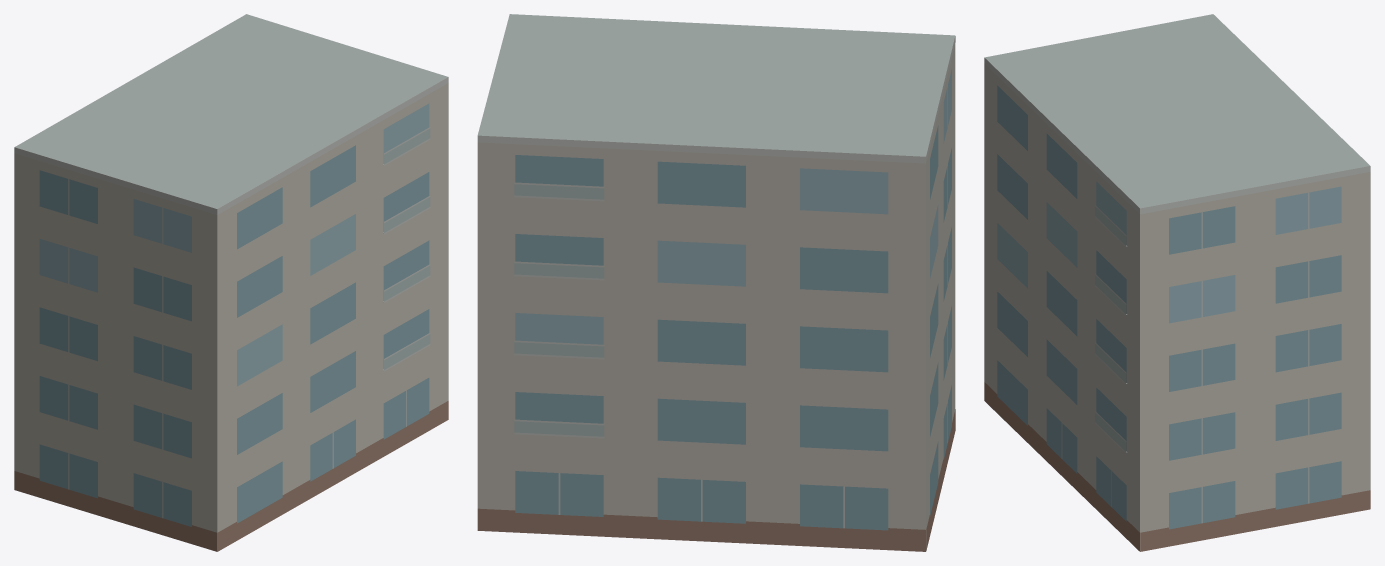
Rendered from survey-upis-32759765.glb.
3 views of the same model, side by side, from view 1: azimuth 30°, elevation 25°; view 2: azimuth 150°, elevation 25°; view 3: azimuth 270°, elevation 25° (orthographic). The views are drawn at different scales.
Visible parts, largest first — view 1: survey-upis-32759765.tmp; view 2: survey-upis-32759765.tmp; view 3: survey-upis-32759765.tmp.
Boxes of the visible parts, x1=… form: survey-upis-32759765.tmp: x1=14, y1=14, x2=448, y2=551; survey-upis-32759765.tmp: x1=477, y1=14, x2=955, y2=551; survey-upis-32759765.tmp: x1=984, y1=14, x2=1370, y2=551.
Size of the model in its own units: 17.25 by 14.2 by 14.48.
